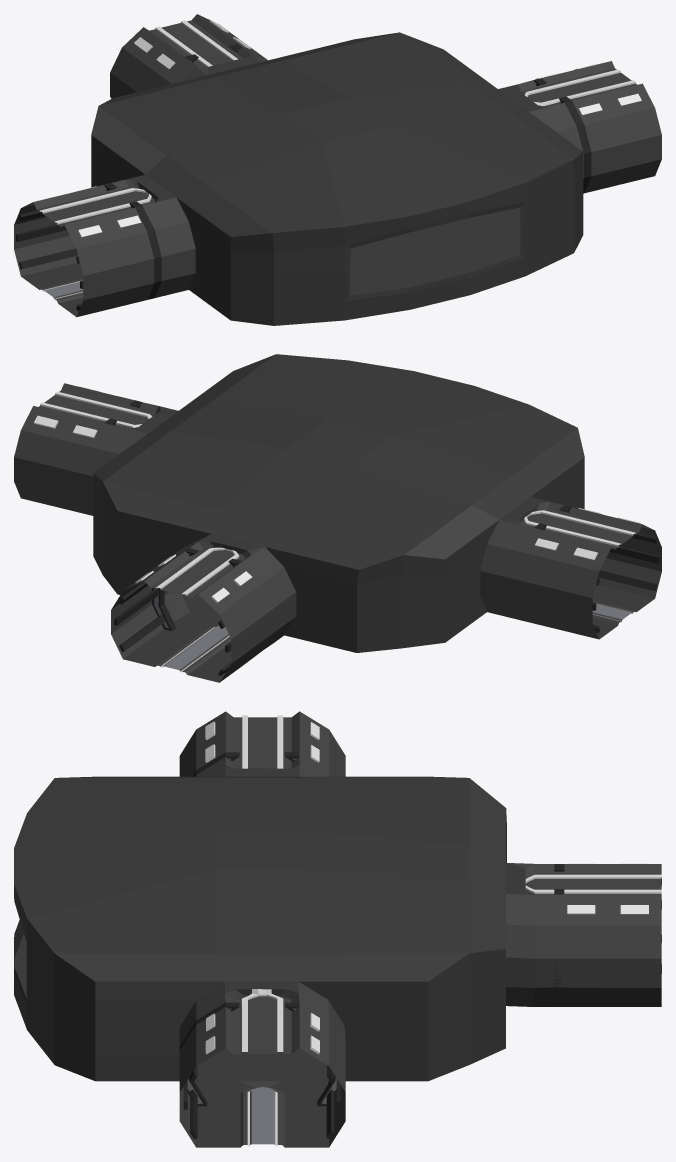
Rendered from Ship-MainRoom.fbx.
3 views of the same model, one above another, from view 1: azimuth 30°, elevation 25°; view 2: azimuth 150°, elevation 25°; view 3: azimuth 270°, elevation 25° (orthographic). The views are drawn at different scales.
Parts seen in each view (by area): view 1: CommandRoom_Mesh; view 2: CommandRoom_Mesh; view 3: CommandRoom_Mesh.
Part boxes in pixels (x1,y1,x2,y2): CommandRoom_Mesh: [14, 14, 661, 325]; CommandRoom_Mesh: [14, 354, 661, 682]; CommandRoom_Mesh: [14, 711, 661, 1147].
Bounding box in the file's own units: 2213 × 391 × 1799.
